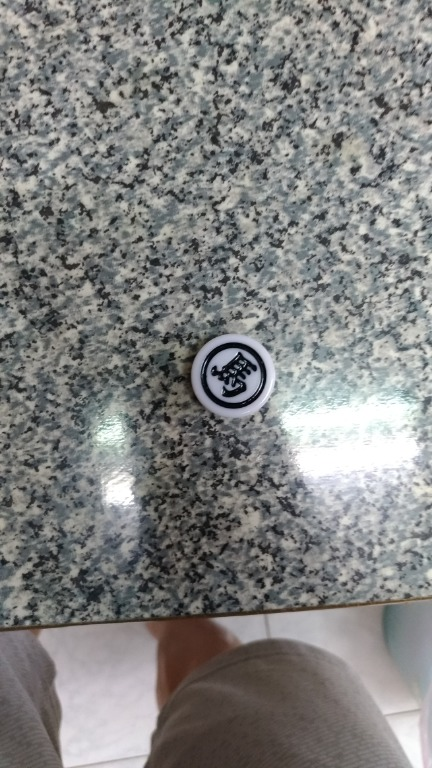b-knight: (187, 318, 292, 431)
